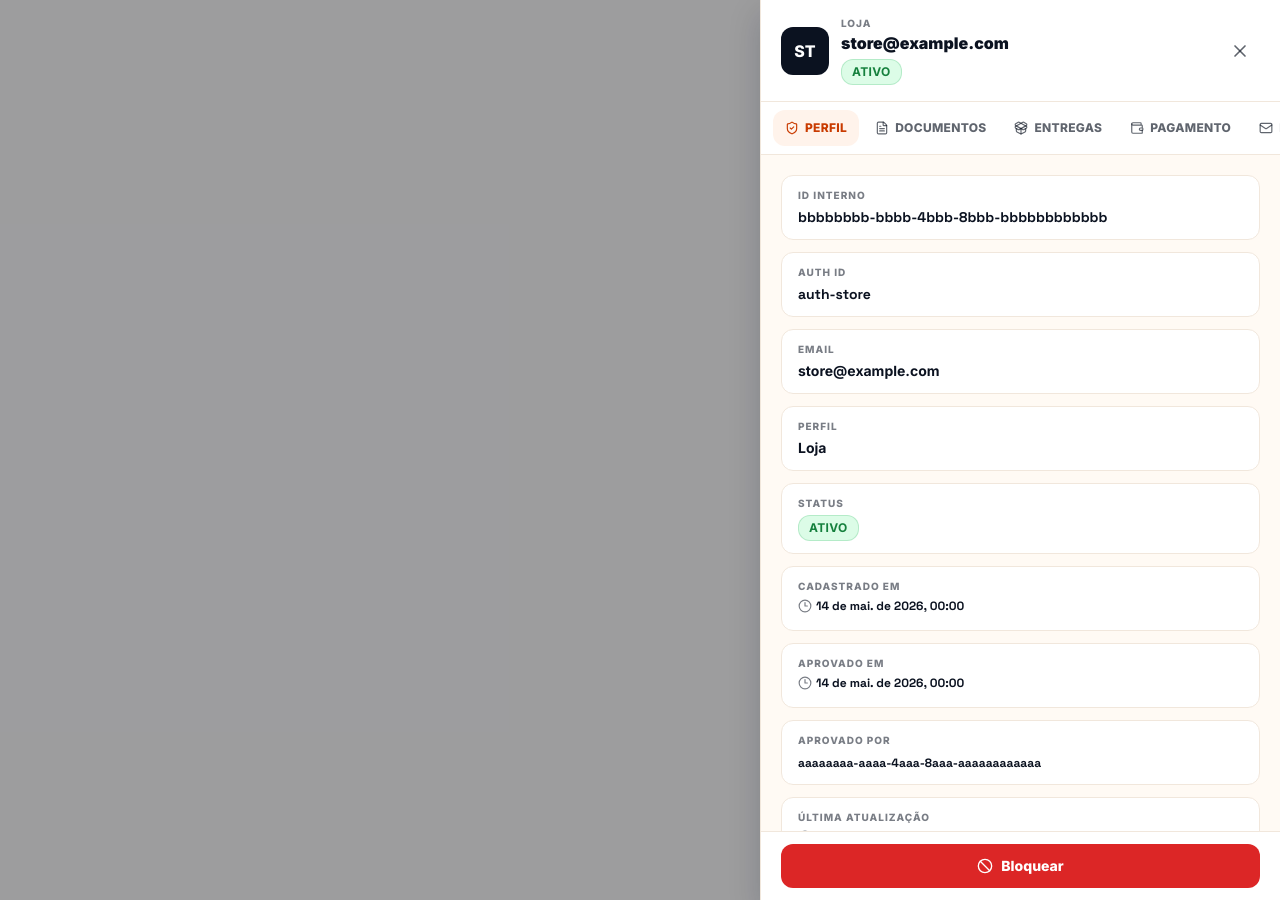
it: UserDetailDrawer deliveries tab › shows recoverable error and empty states
Click the button "Entregas". click: (1058, 128)
box: [1002, 110, 1114, 146]
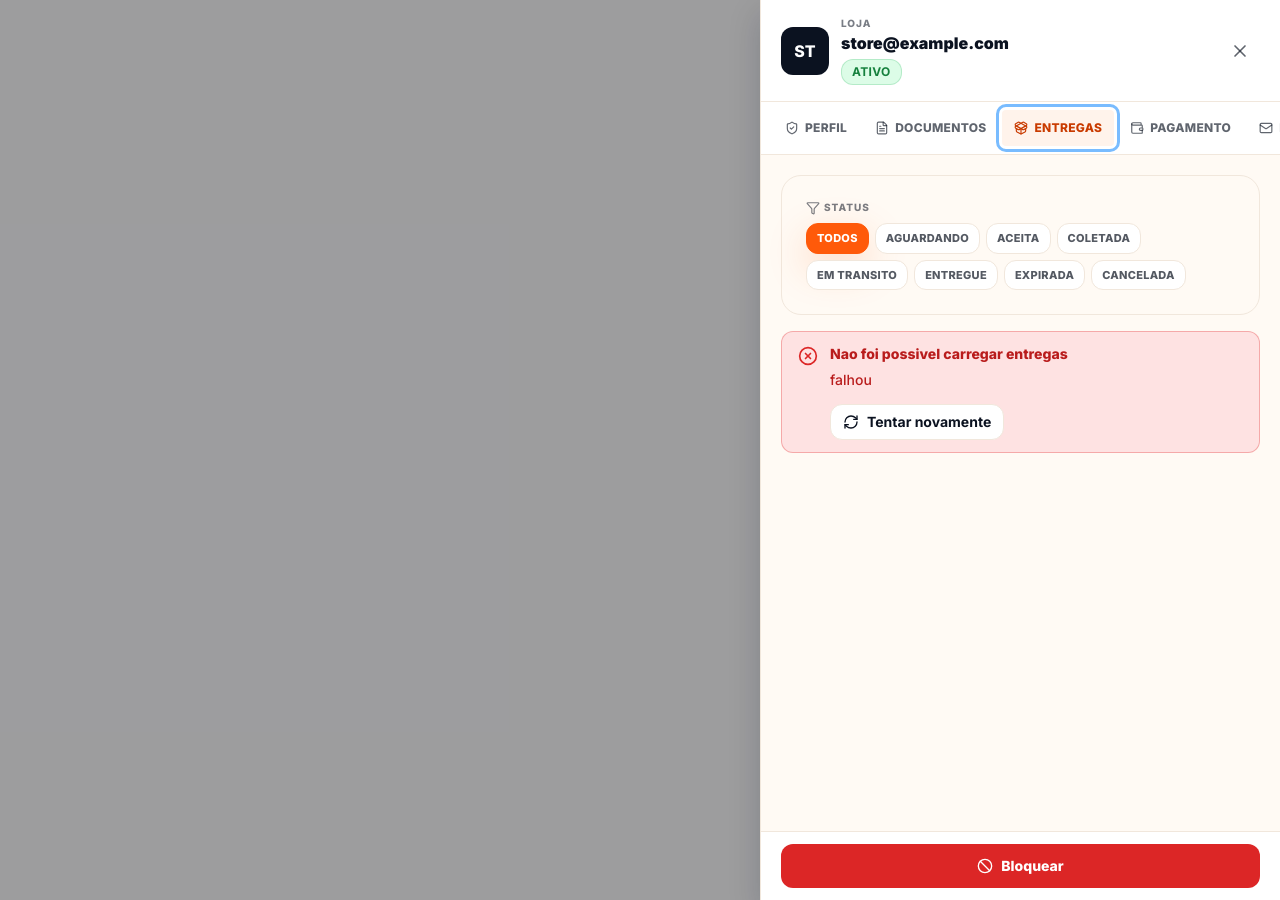
expect the text "falhou" is shown: met, box [830, 371, 872, 388]
expect the button "Tentar novamente" is shown: met
Click the button "Tentar novamente". click: (917, 422)
box: [830, 404, 1004, 440]
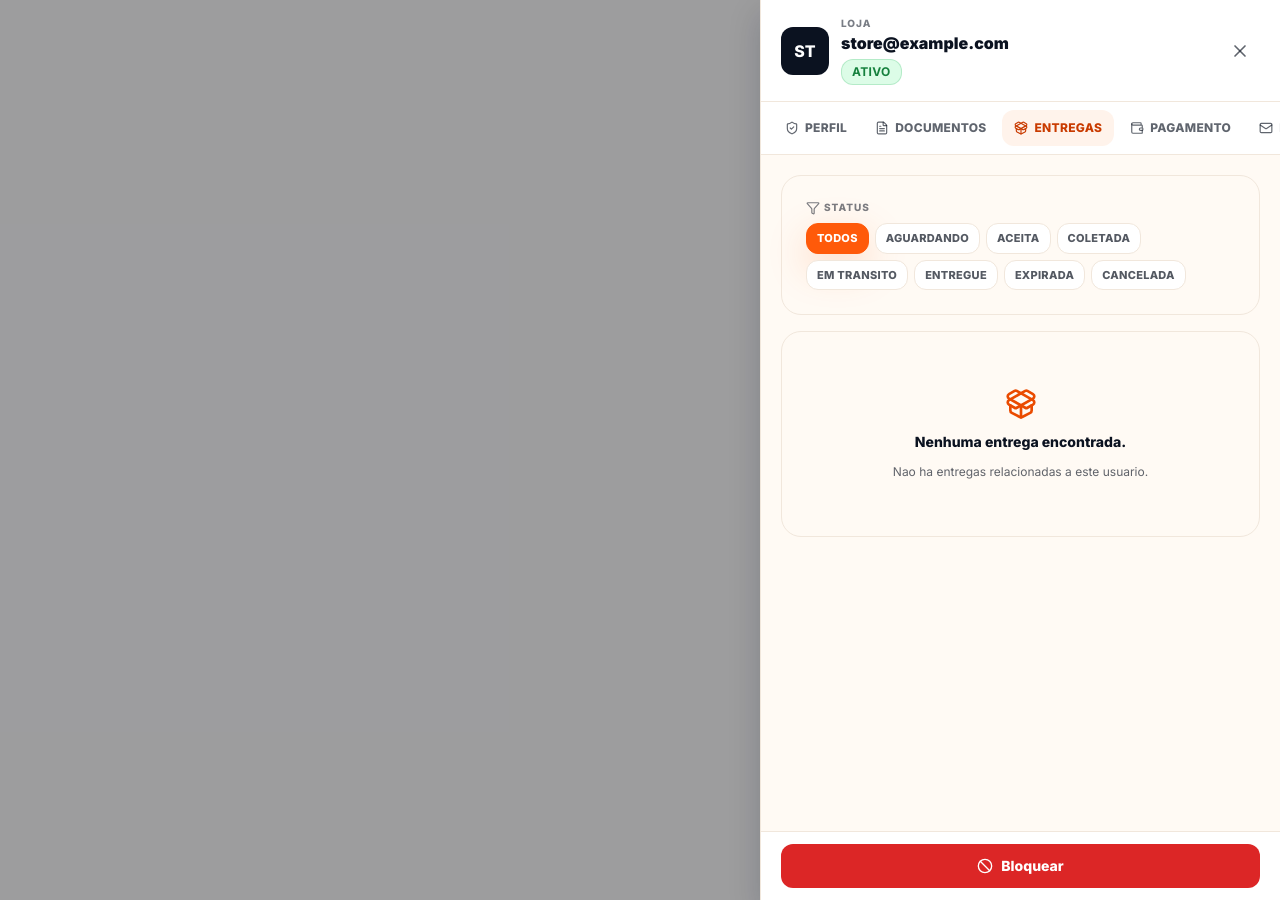
expect the text "Nenhuma entrega encontrada." is shown: met, box [915, 432, 1126, 452]
